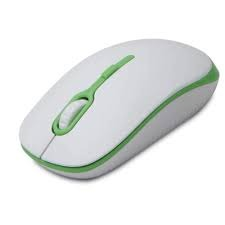mouse: (21, 13, 219, 192)
